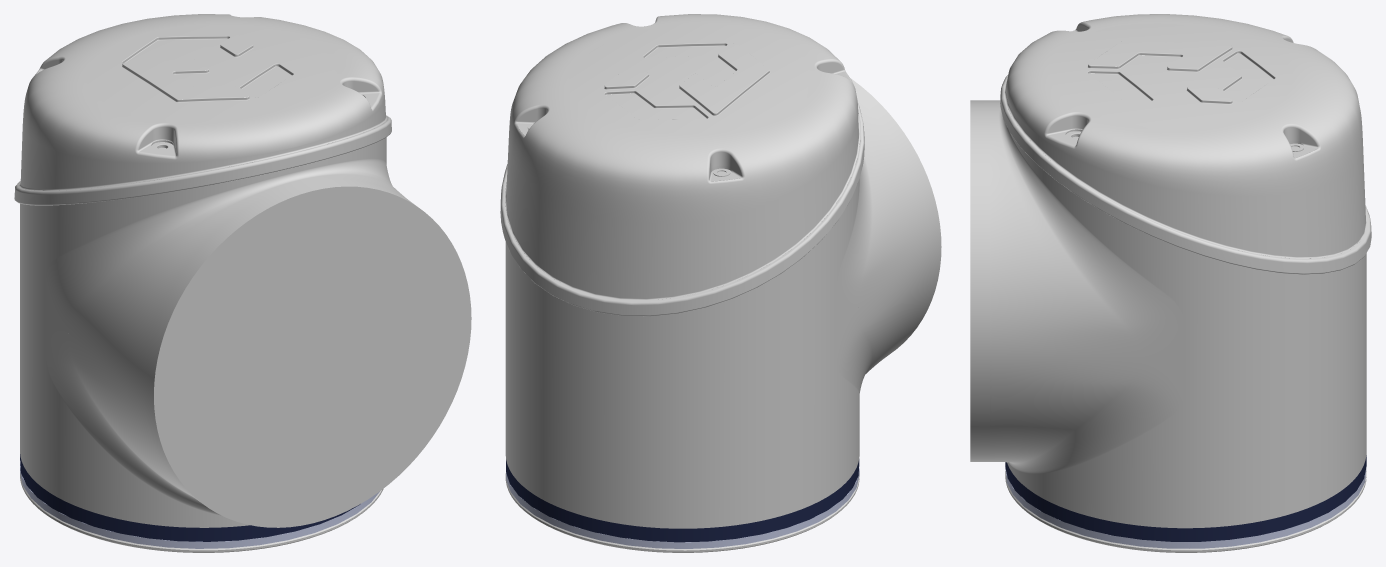
3 renders of one model, left to right at view 1: azimuth 30°, elevation 25°; view 2: azimuth 150°, elevation 25°; view 3: azimuth 270°, elevation 25°, orthographic. The views are drawn at different scales.
Visible parts, largest first — view 1: CS66-J1 (×4); view 2: CS66-J1 (×4); view 3: CS66-J1 (×4).
Boxes of the visible parts, x1,y1,x2,y2 form: CS66-J1 (×4): (14, 14, 471, 552); CS66-J1 (×4): (500, 14, 941, 552); CS66-J1 (×4): (970, 14, 1371, 552).
Bounding box in the file's own units: 0.1215 × 0.131 × 0.1478.
